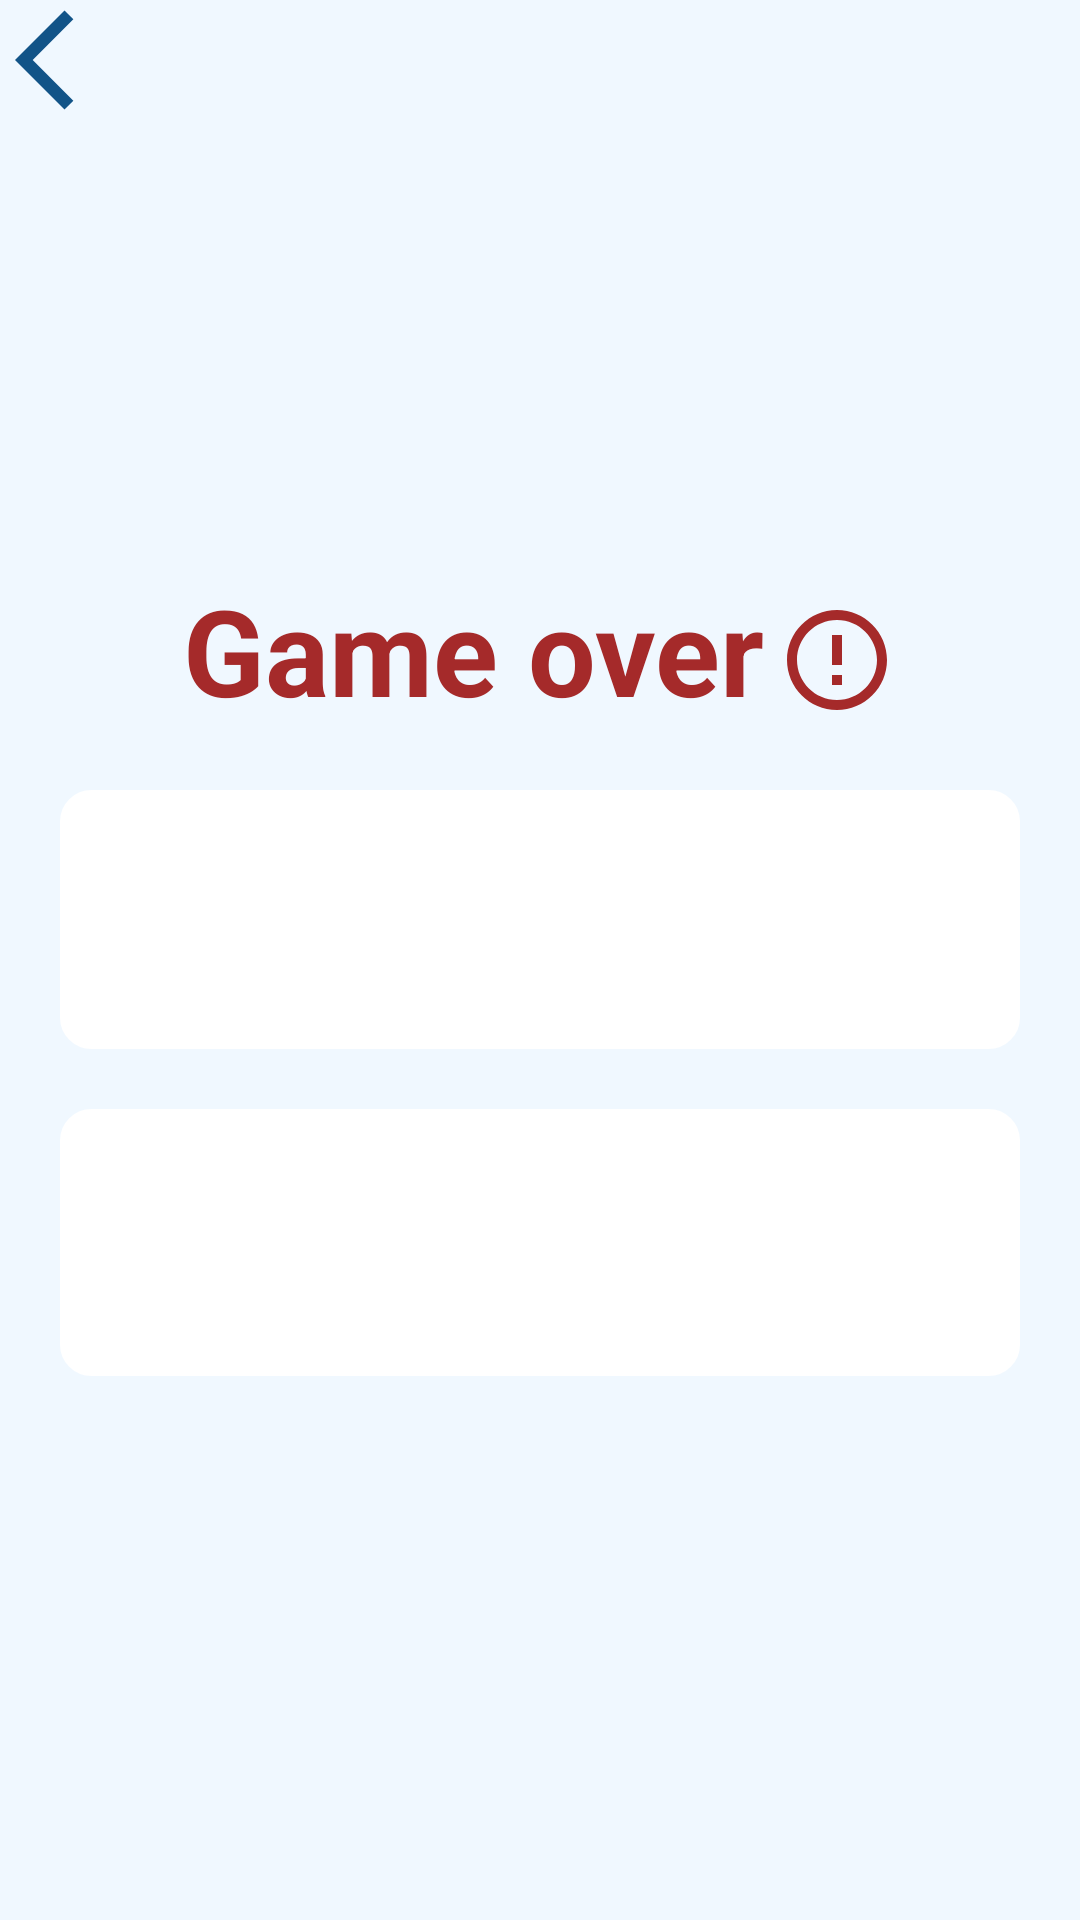

Where to tap for icons on this 1080px×1920px app screen, as point (x, y):
arrow back: point (44, 60)
error: point (837, 660)
